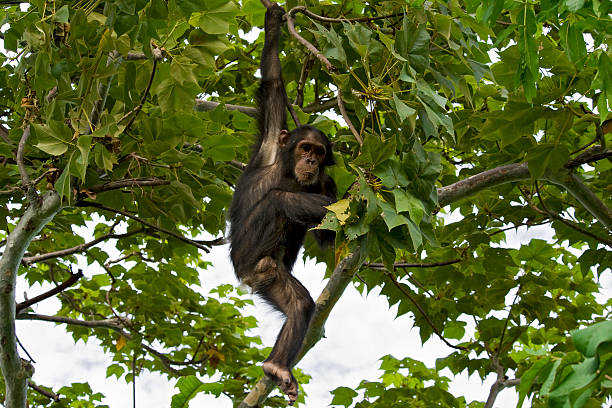chimpanzee: (276, 121, 340, 201)
